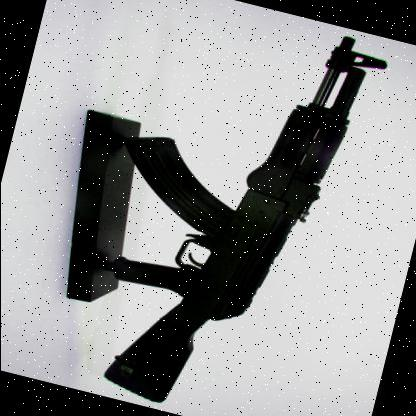rifle: (51, 0, 402, 416)
